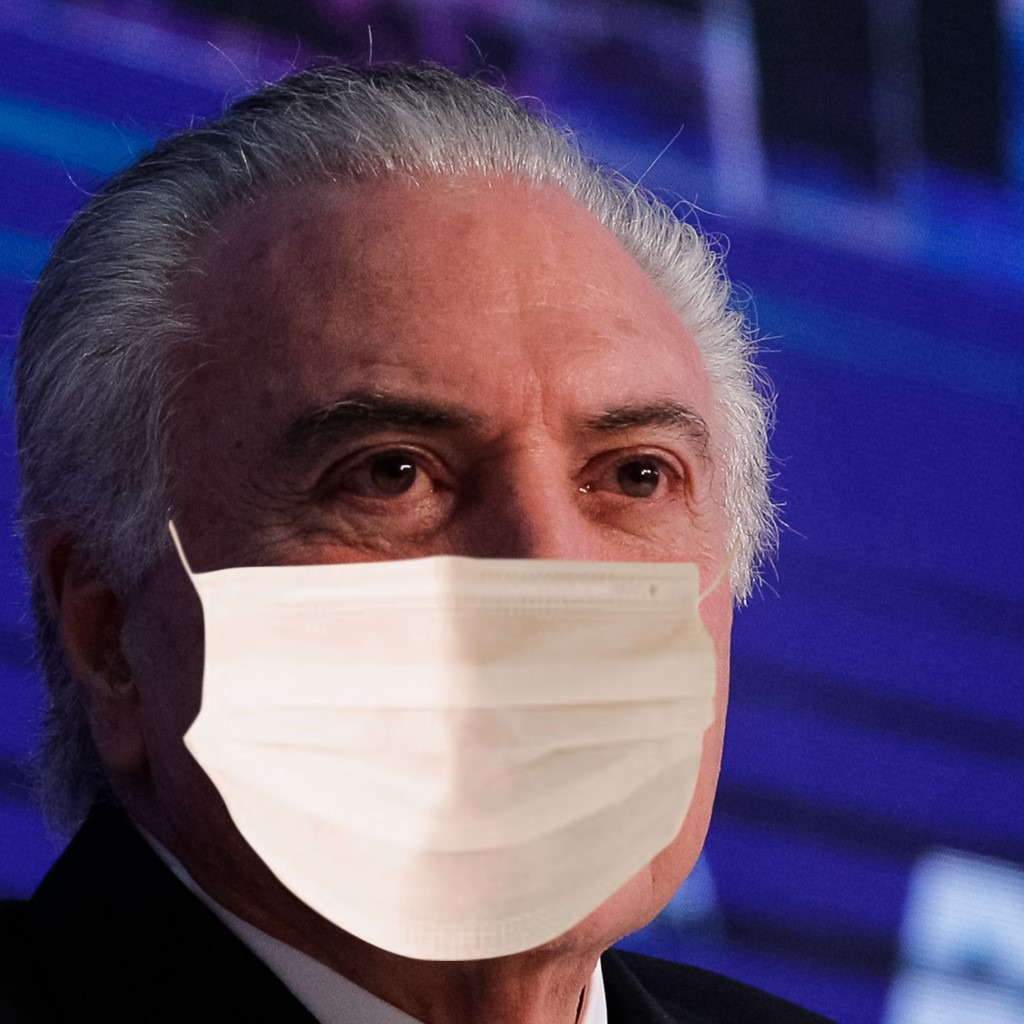con_mascara: (105, 138, 751, 973)
